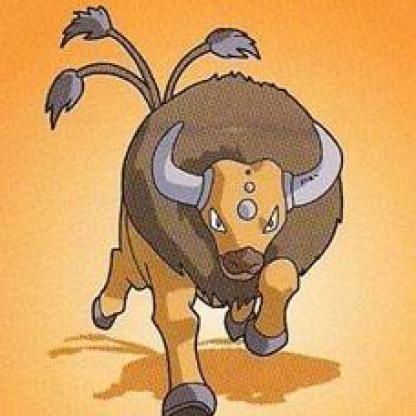Tauros: (1, 1, 415, 415)
